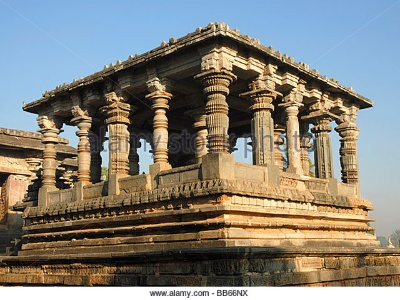mandapa: (17, 19, 374, 196)
